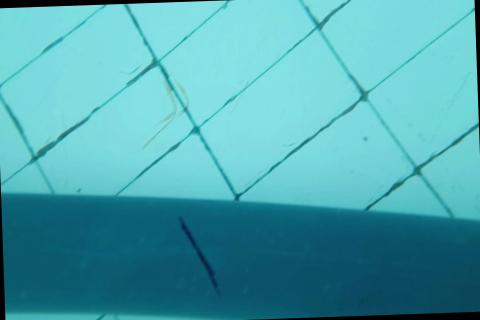keretakan: (176, 214, 223, 301)
